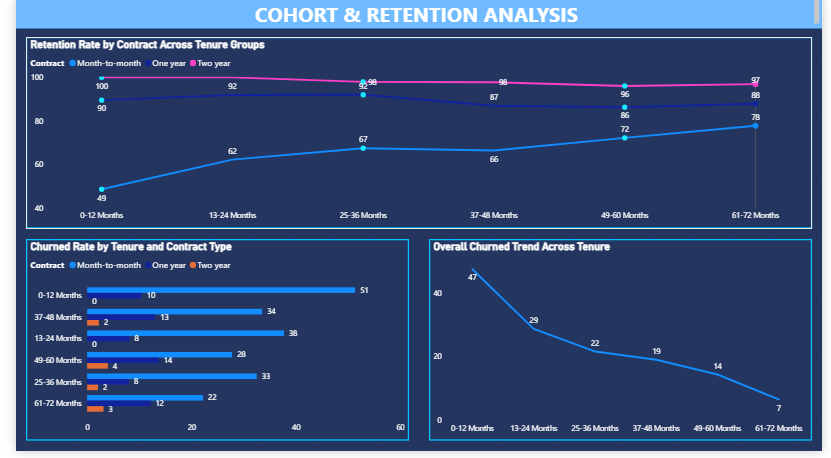

The page's visual inventory and layout, read from the dashboard file:
{"tool":"powerbi","page":{"name":"Cohort & Retention","canvas":[1280,720],"ordinal":2},"visuals":[{"type":"textbox","box":[0,0,1280,50],"z":0},{"type":"lineChart","title":"Retention Rate by Contract Across Tenure Groups","fields":{"Category":["cohort_analysis.tenure_groups"],"Y":["Sum(cohort_analysis.Retention_Rate)"],"Series":["cohort_analysis.Contract"]},"box":[16,64,1248,304],"z":1000},{"type":"clusteredBarChart","title":"Churned Rate by Tenure and Contract Type","fields":{"Category":["cohort_analysis.tenure_groups"],"Y":["Sum(cohort_analysis.churned_Rate)"],"Series":["cohort_analysis.Contract"]},"box":[16,384,608,320],"z":2000},{"type":"lineChart","title":"Overall Churned Trend Across Tenure","fields":{"Y":["Cleaned_Churn.Overall Churn %"],"Category":["Cleaned_Churn.tenure_groups"]},"box":[656,384,608,320],"z":3000}]}

Visuals, with their boxes in screenshot pixels (x1, y1, x2, y2), scaled from the page's 1280x720 canvas onto the 831x458 screenshot:
textbox: bbox=(0, 0, 830, 32)
"Retention Rate by Contract Across Tenure Groups" lineChart: bbox=(10, 41, 821, 234)
"Churned Rate by Tenure and Contract Type" clusteredBarChart: bbox=(10, 244, 405, 448)
"Overall Churned Trend Across Tenure" lineChart: bbox=(426, 244, 821, 448)
